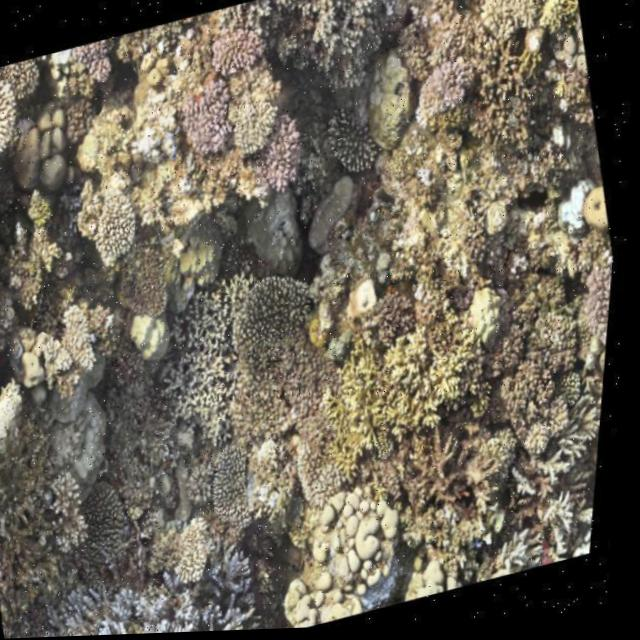Bleached Coral: (44, 540, 275, 638), (35, 350, 134, 506), (129, 117, 190, 173)
